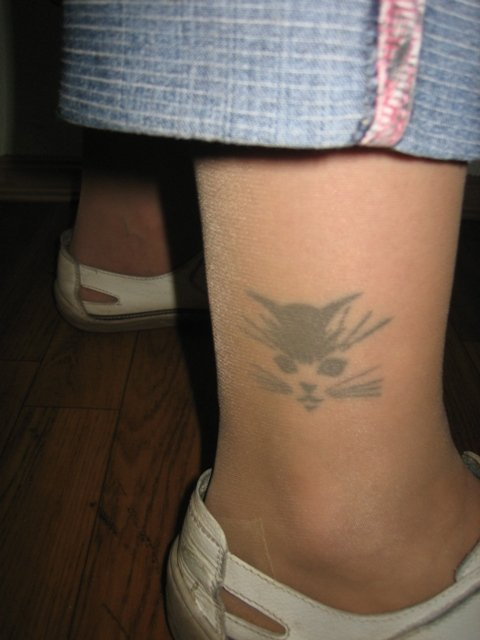tatu8_kot: (229, 283, 393, 413)
